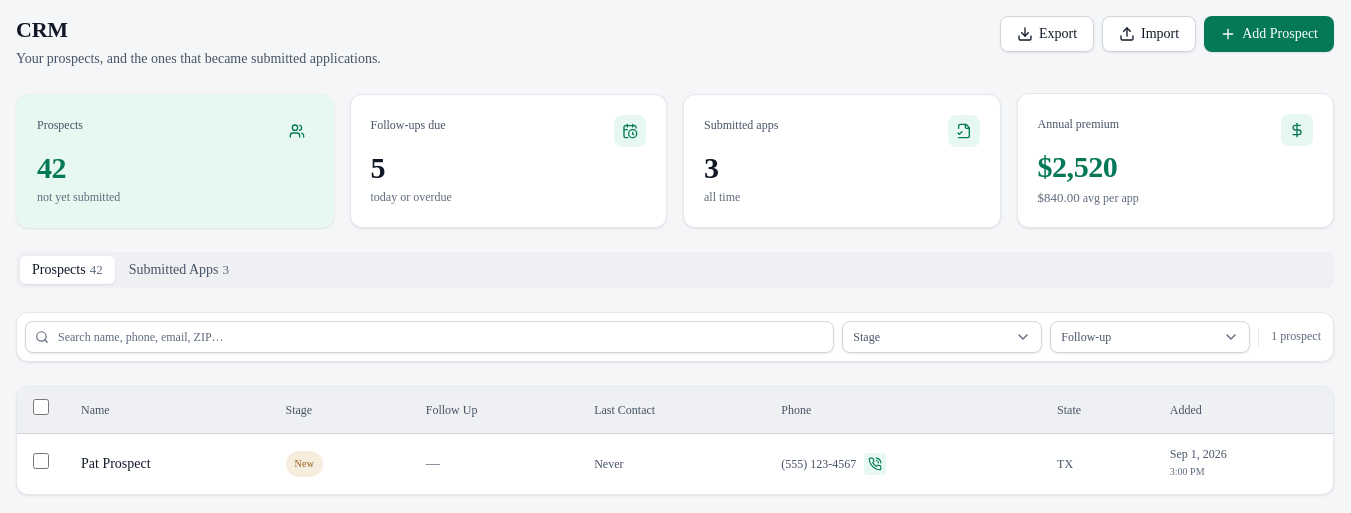
Test: the agency CRM › lists submitted apps with their annual premium
Expected: the text "Pat Prospect" is shown, [81, 456, 151, 471]
Note: The tile and the tab both lead there.
Click the button "Submitted Apps 3" at [179, 270], box [117, 256, 241, 284]
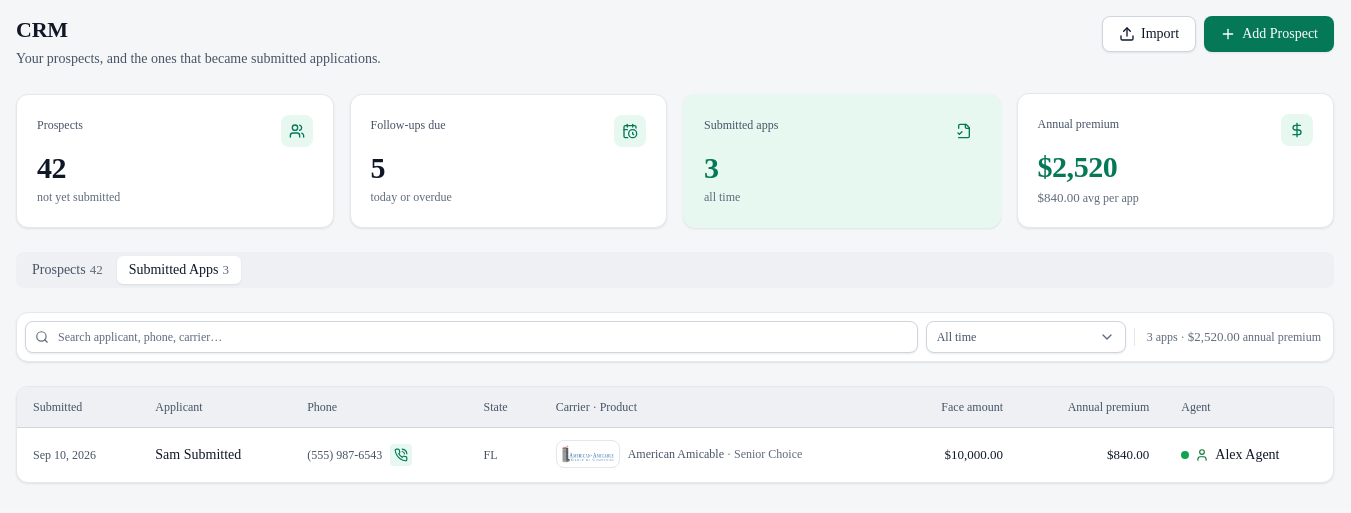
Expected: the 1st text "$840.00" is shown, [1038, 190, 1080, 205]
Expected: the text "Sam Submitted" is shown, [139, 427, 291, 482]
Expected: the text "American Amicable" is shown, [628, 447, 724, 461]
